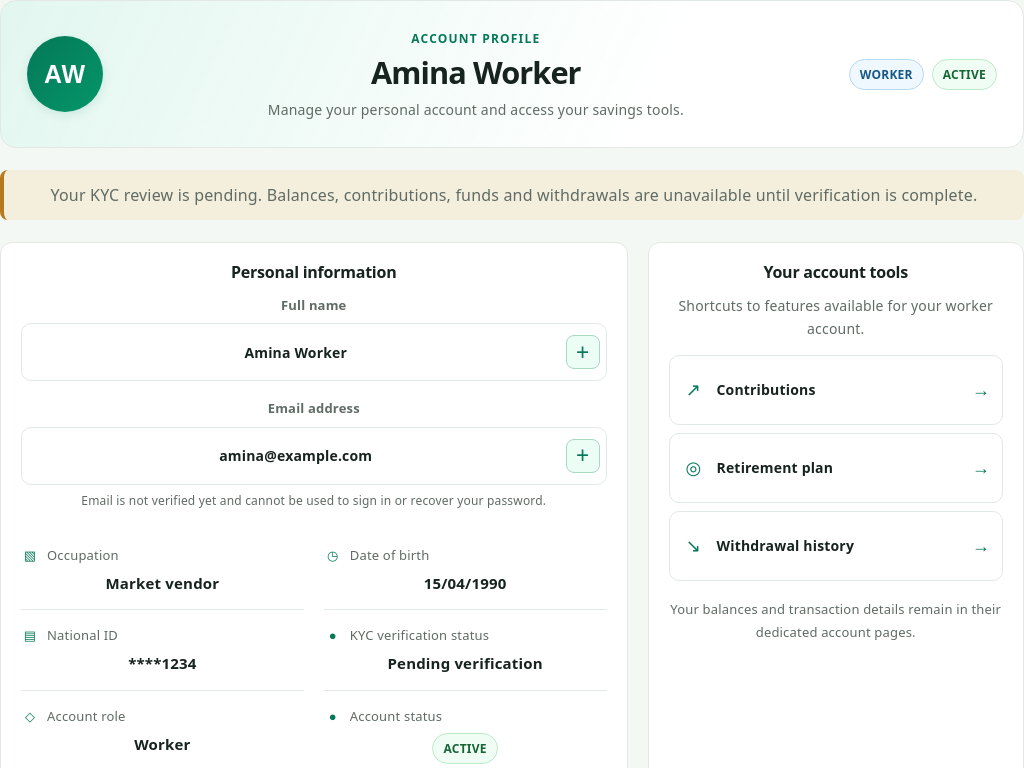
Test case: shared ProfileCard › enables full-name inline editing and cancel discards changes
The width and height of the screenshot is (1024, 768).
Expected: the heading "Amina Worker" is shown, [371,51,581,93]
Click the button named "Edit full name": [582, 352] box [566,335,600,369]
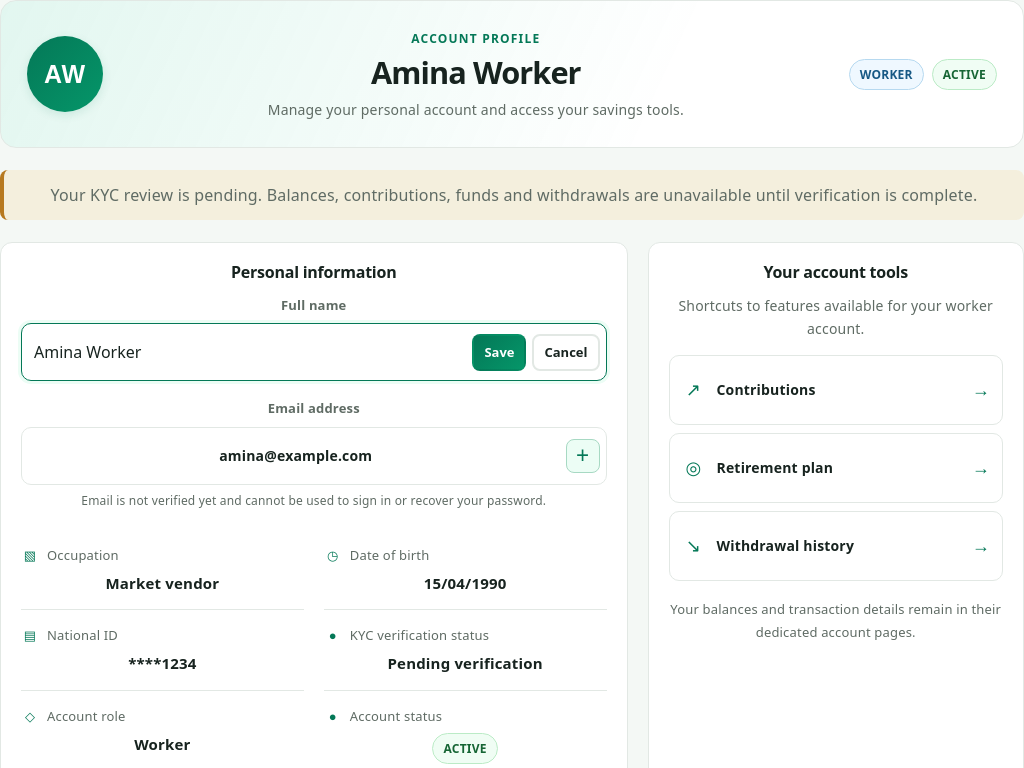
Expected: the field labelled "Full name" holds "Amina Worker"
Replace the text in the field labelled "Full name" with "Unsaved name": [249, 352] box [34,336,464,369]
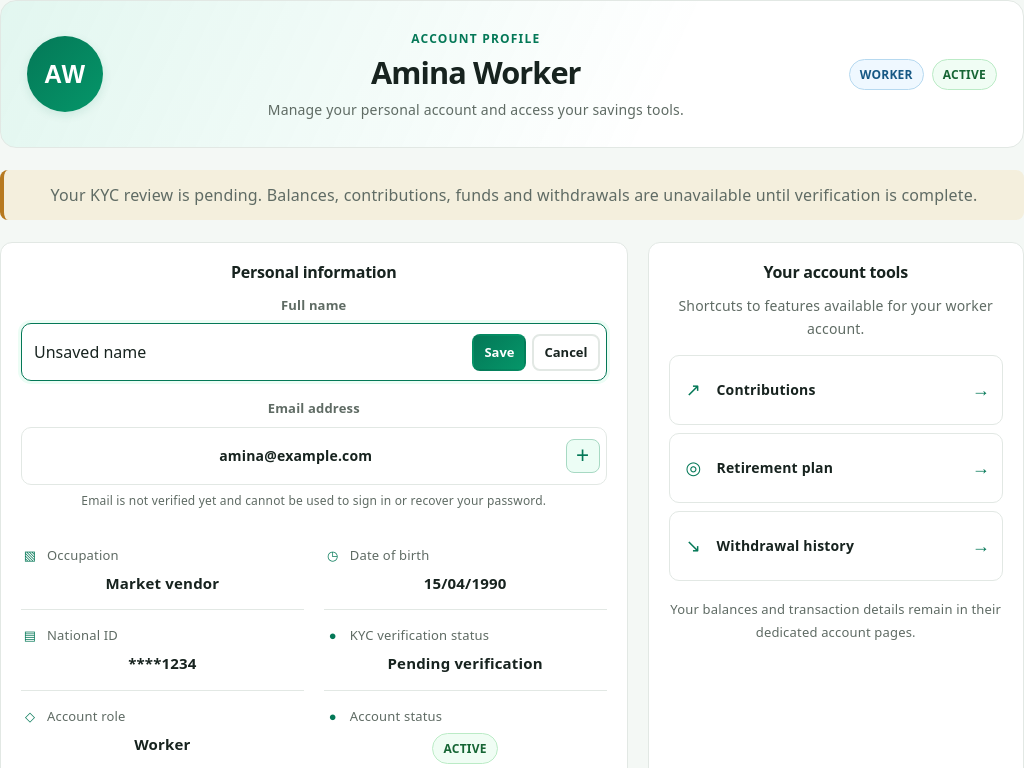
Click the button "Cancel": [566, 352] box [532,334,600,371]
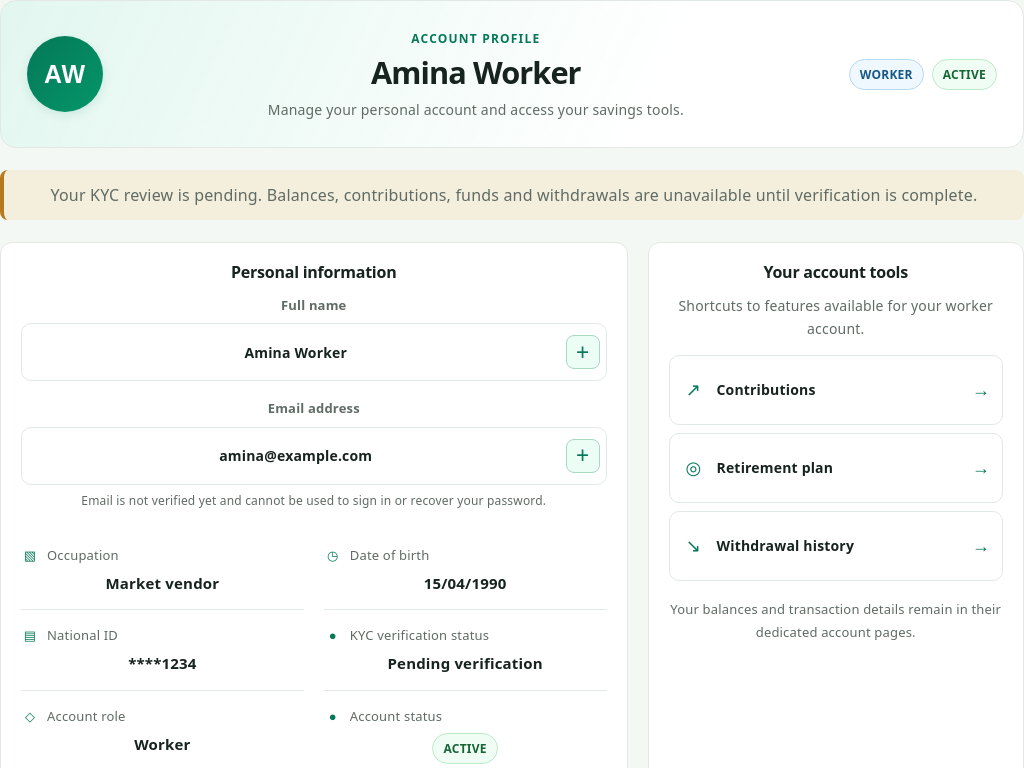
Expected: the text "Amina Worker" is shown, [244,343,347,362]
